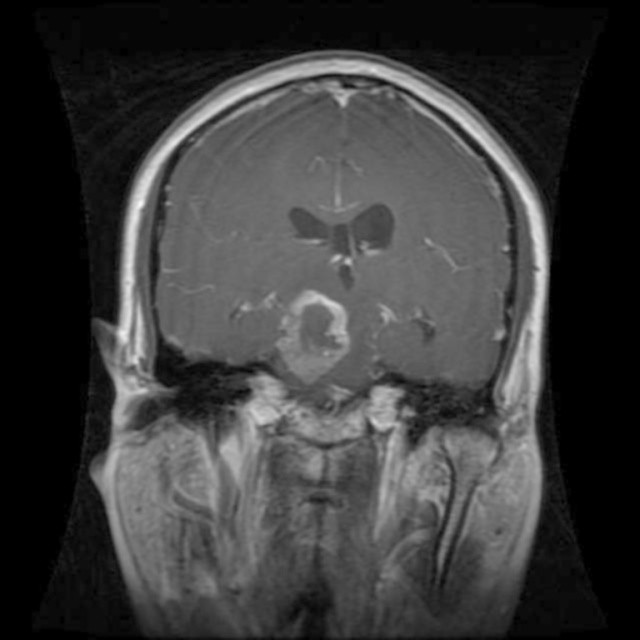pituitary tumor: (272, 294, 350, 380)
